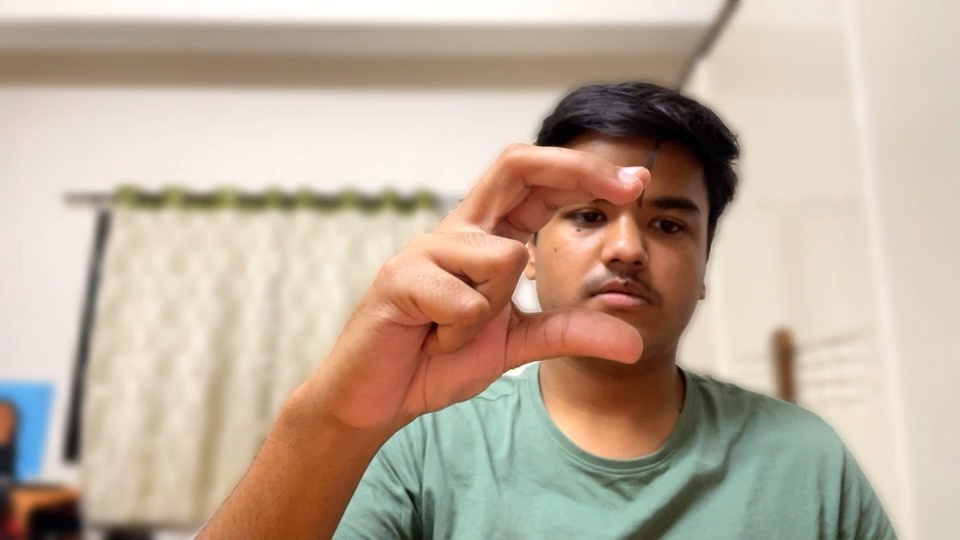No: (328, 131, 657, 442)
